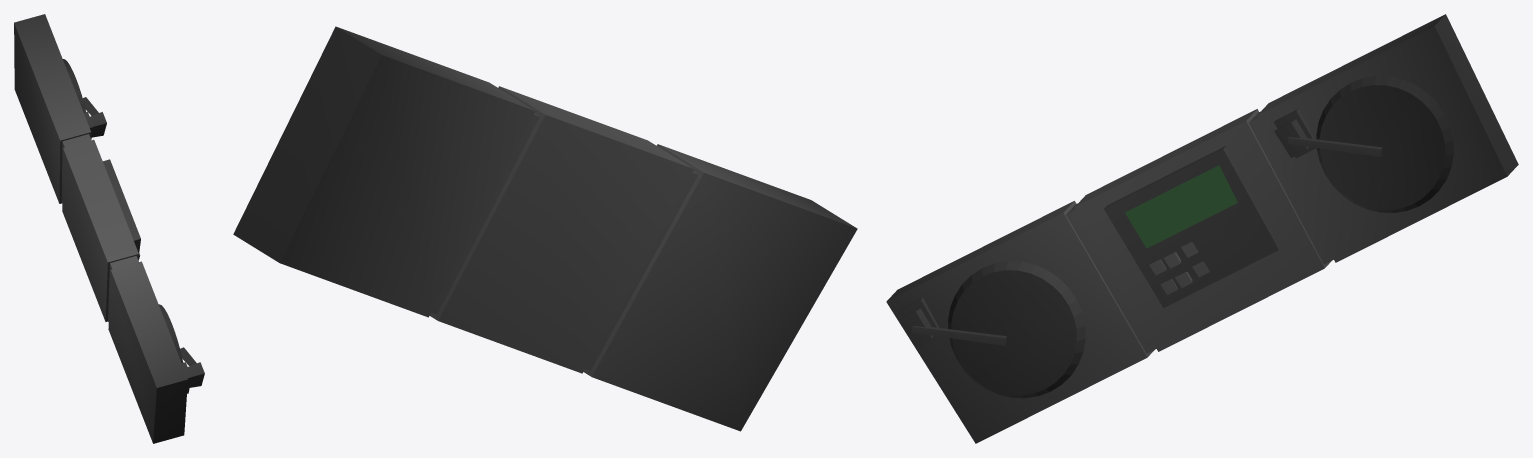
File: DJ_Desk.fbx
3 views of the same model, side by side, from view 1: azimuth 30°, elevation 25°; view 2: azimuth 150°, elevation 25°; view 3: azimuth 270°, elevation 25° (orthographic). The views are drawn at different scales.
Parts seen in each view (by area): view 1: DJ_Desk; view 2: DJ_Desk; view 3: DJ_Desk.
Boxes of the visible parts, x1,y1,x2,y2 form: DJ_Desk: [14, 14, 204, 443]; DJ_Desk: [233, 26, 857, 431]; DJ_Desk: [886, 14, 1518, 443].
Size of the model in its own units: 0.2674 by 0.774 by 1.01.
